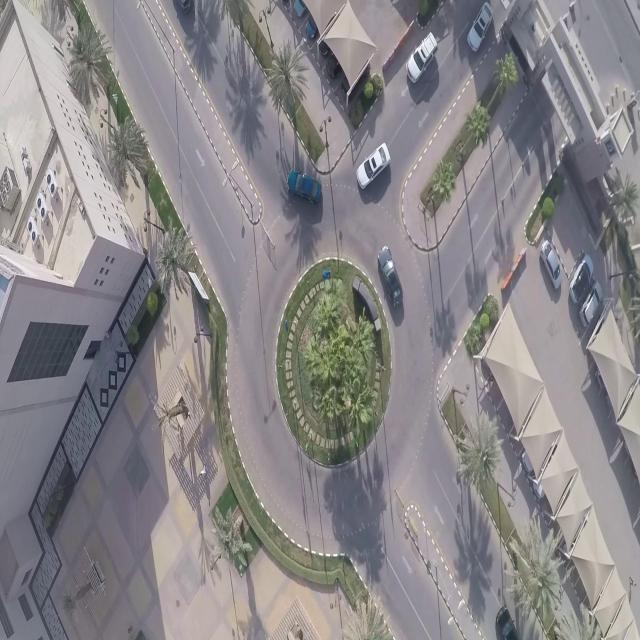car: (406, 30, 440, 86), (356, 142, 391, 192), (377, 244, 404, 308), (466, 0, 494, 53), (285, 169, 324, 205), (568, 253, 594, 302), (540, 240, 562, 288), (580, 284, 603, 327), (494, 605, 517, 639), (305, 0, 322, 38), (170, 0, 194, 14), (318, 33, 331, 57), (292, 0, 307, 18)
